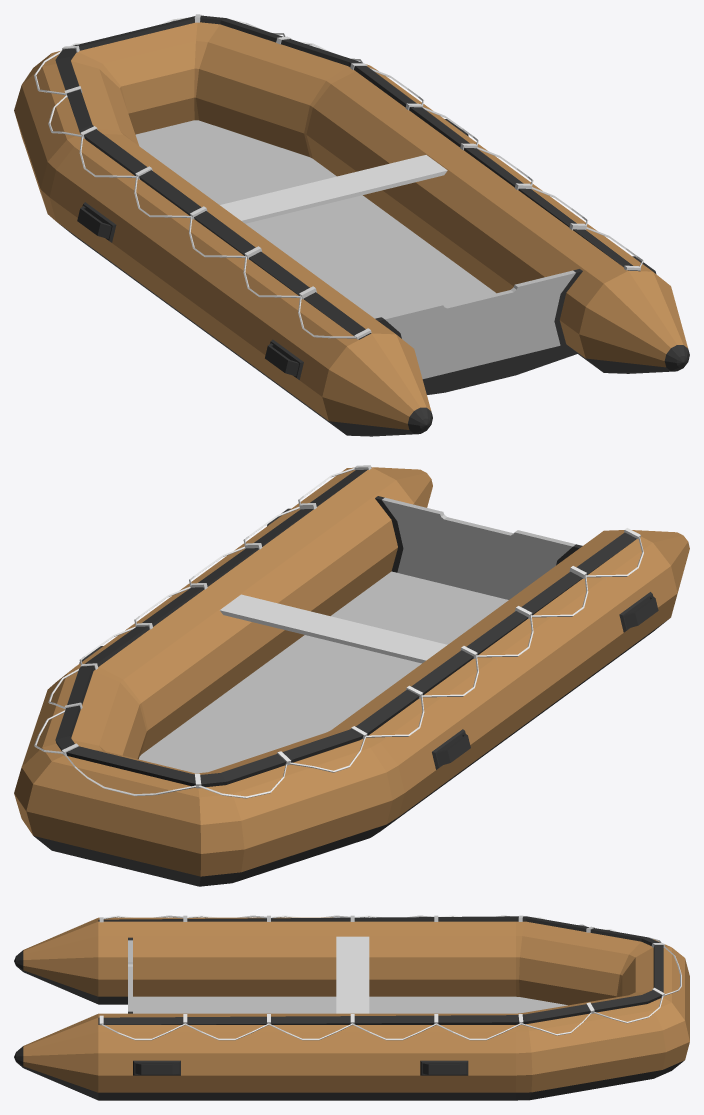
File: Rubber_Boat_ani_non_Human.fbx
3 views of the same model, one above another, from view 1: azimuth 30°, elevation 25°; view 2: azimuth 150°, elevation 25°; view 3: azimuth 270°, elevation 25° (orthographic). The views are drawn at different scales.
Parts seen in each view (by area): view 1: Rubber_Boat; view 2: Rubber_Boat; view 3: Rubber_Boat.
Part boxes in pixels (x1,y1,x2,y2): Rubber_Boat: (14, 14, 689, 436); Rubber_Boat: (14, 465, 689, 886); Rubber_Boat: (14, 915, 689, 1100).
Size of the model in its own units: 180 by 50.19 by 369.
